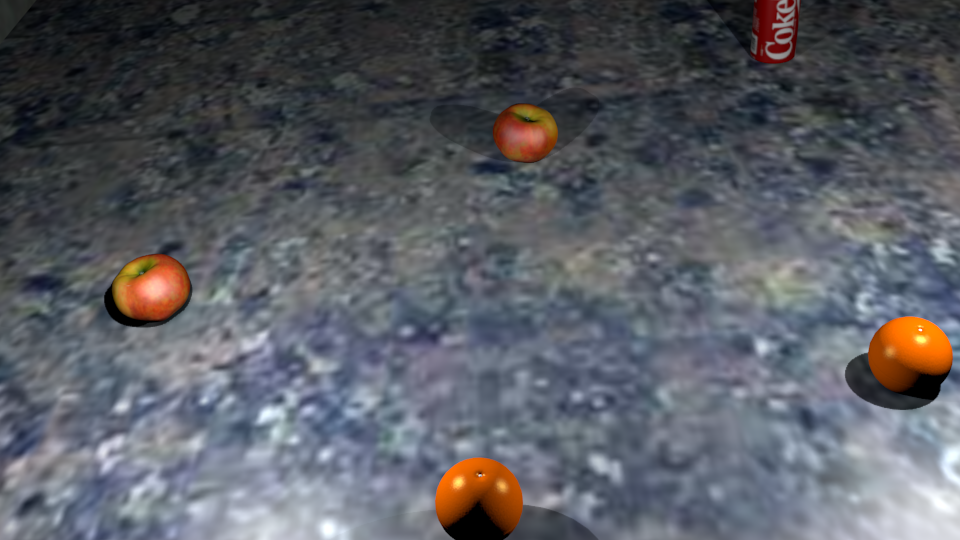apple: (576, 256, 664, 336), (564, 215, 651, 294), (114, 255, 190, 320), (494, 105, 558, 162)
banana: (229, 104, 406, 148), (553, 1, 717, 38), (1, 207, 78, 272)
cola_can: (615, 204, 705, 363), (579, 244, 661, 323), (527, 149, 575, 243), (753, 1, 801, 65)
orange: (495, 182, 606, 269), (328, 237, 426, 327), (435, 458, 524, 532), (869, 317, 953, 388)
